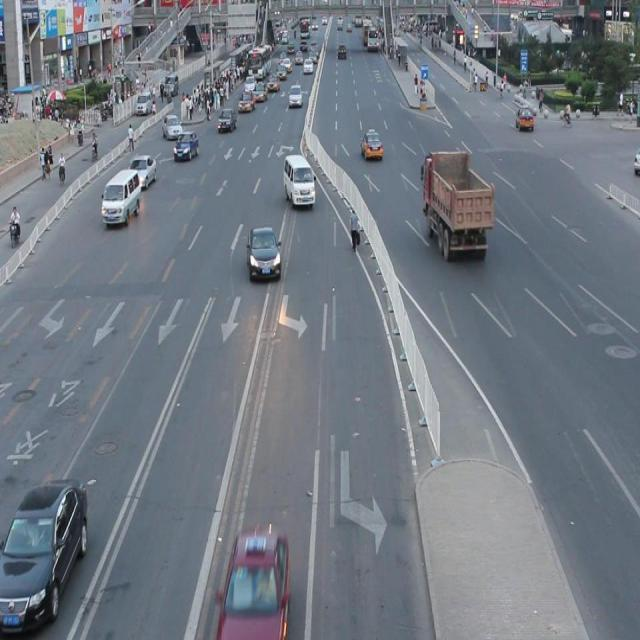bus: (420, 150, 493, 260)
car: (0, 476, 89, 632), (217, 525, 290, 640), (247, 225, 281, 282), (128, 153, 157, 191)
truck: (102, 168, 142, 227), (282, 153, 316, 207)
